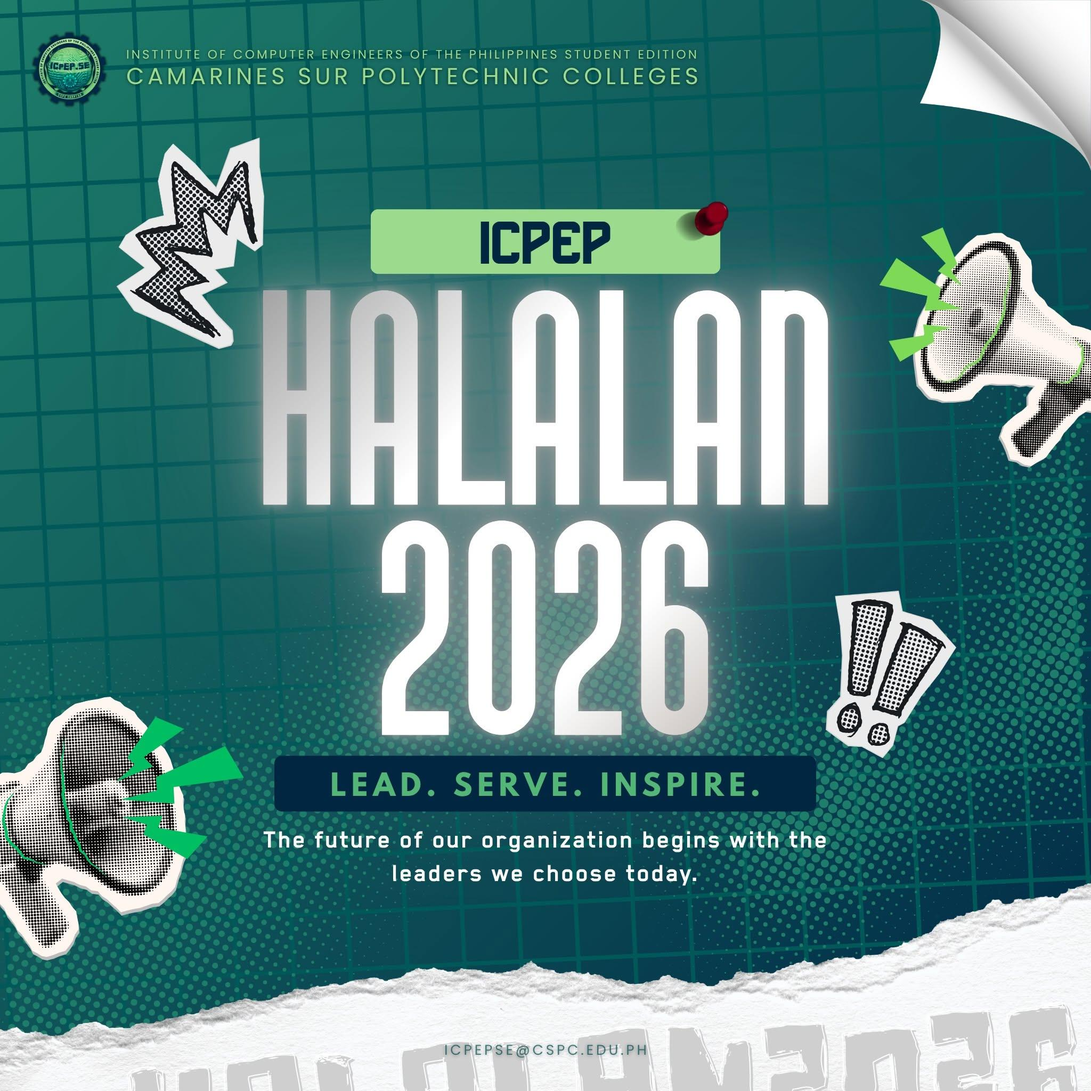embellishment: (0, 681, 249, 962), (876, 216, 1090, 474), (117, 131, 270, 352), (818, 582, 964, 766)
logo: (28, 30, 114, 110)
text: (253, 282, 835, 514), (118, 993, 1087, 1090), (373, 510, 721, 743), (259, 825, 841, 888), (123, 43, 705, 92), (326, 765, 765, 802), (475, 216, 617, 268), (440, 1038, 654, 1062)
underlay: (274, 753, 816, 813), (371, 208, 720, 276)
